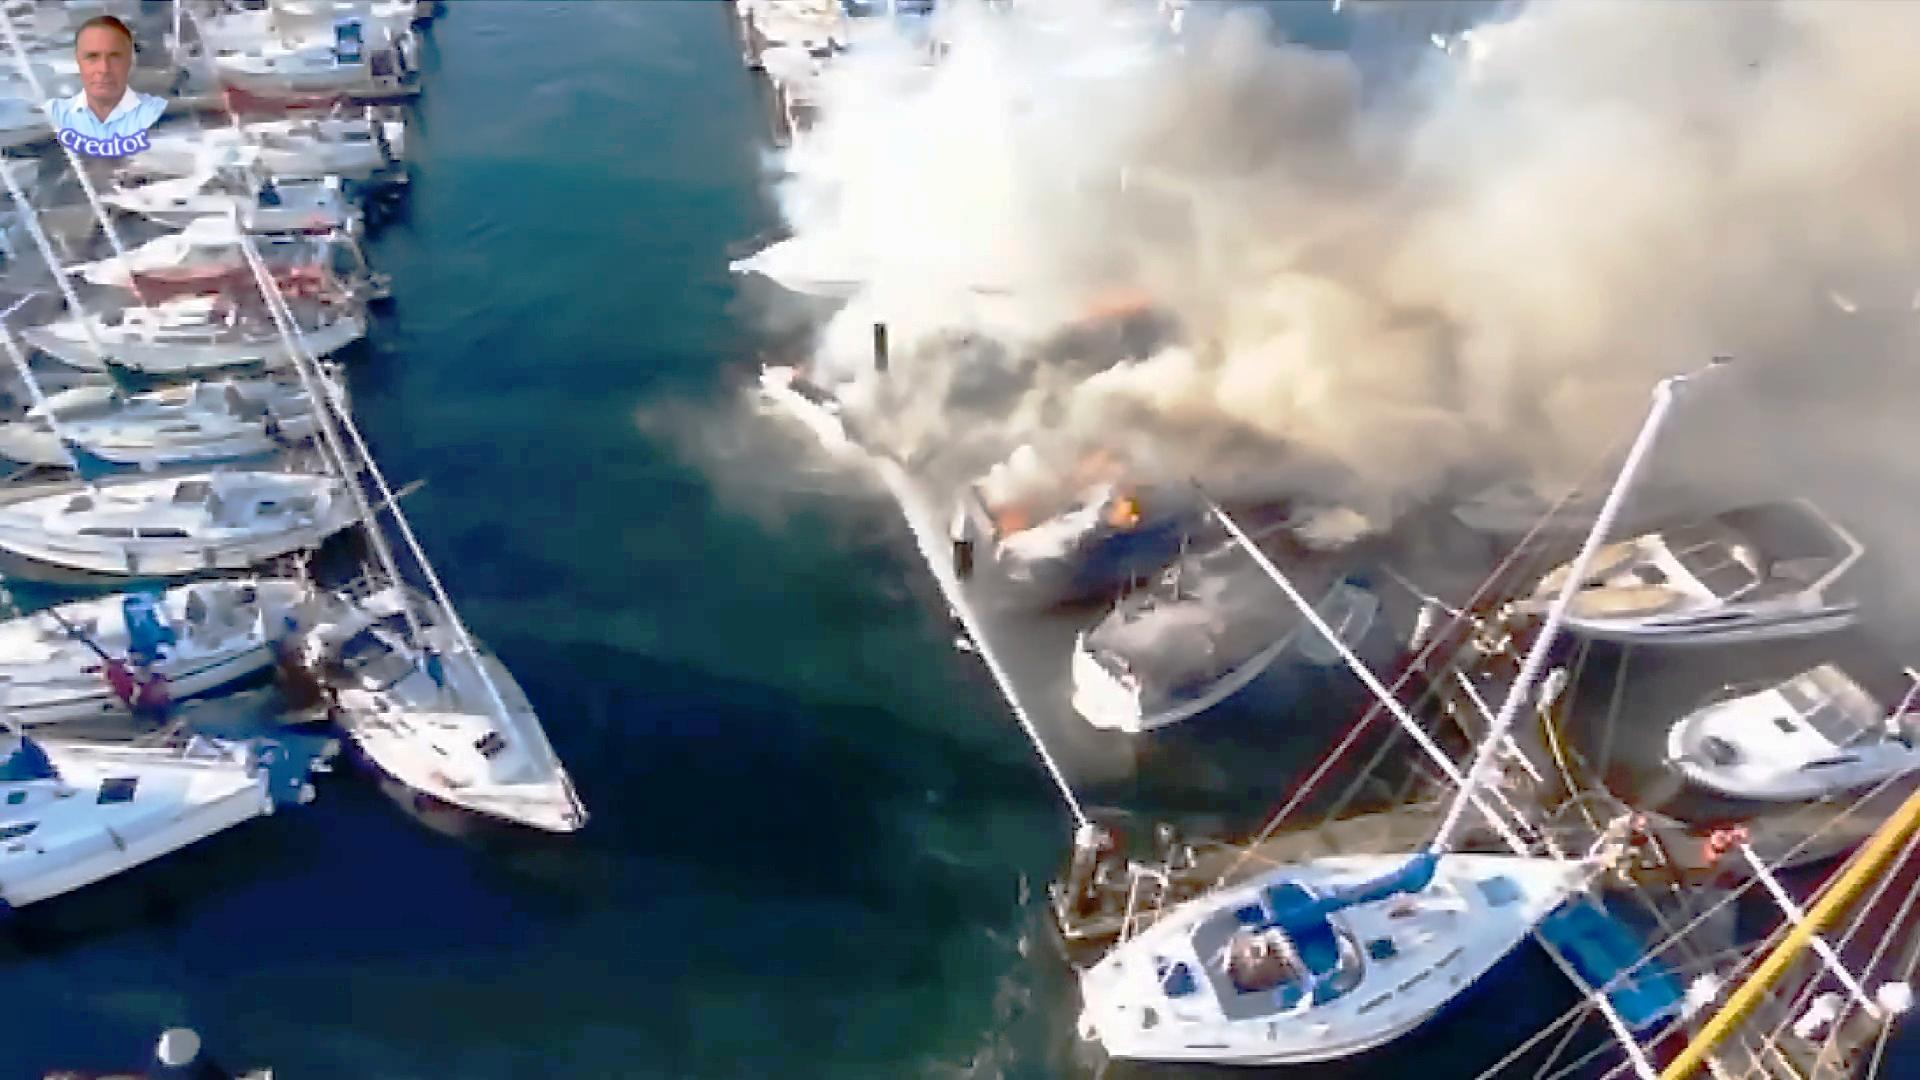smoke: (865, 0, 1425, 491), (1437, 33, 1884, 339)
